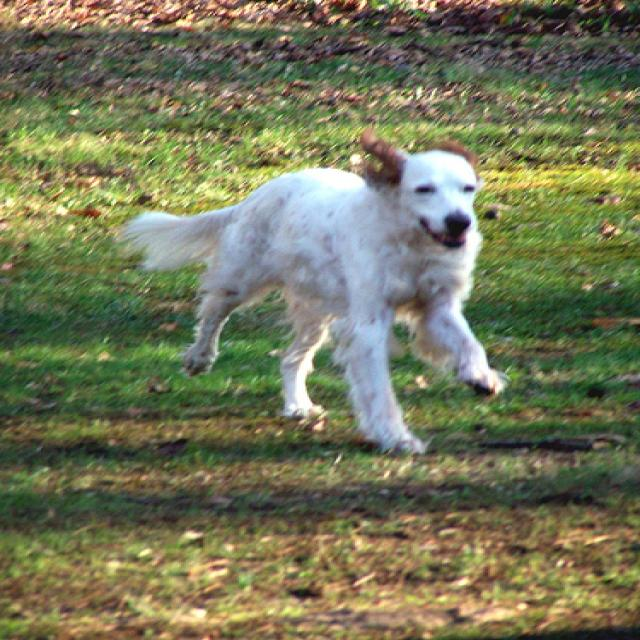dog: (358, 130, 474, 248)
